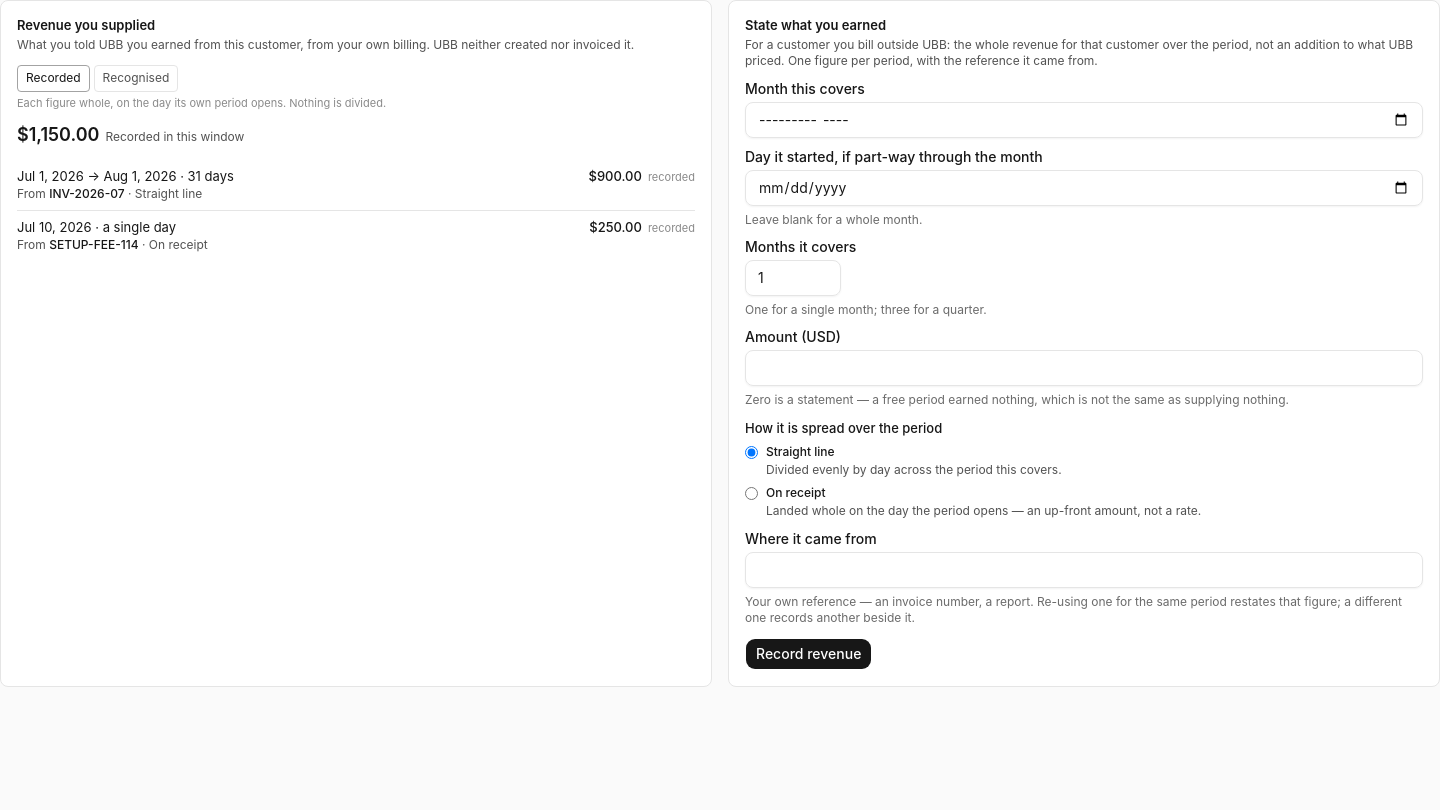
it: a tenant that supplies revenue › says a figure was spread rather than showing a smaller number
The image size is (1440, 810).
Expected: the text "INV-2026-07" is shown, top-left (49, 186), bottom-right (124, 201)
Click the button "Recognised" at (136, 79), box top-left (94, 65), bottom-right (178, 92)
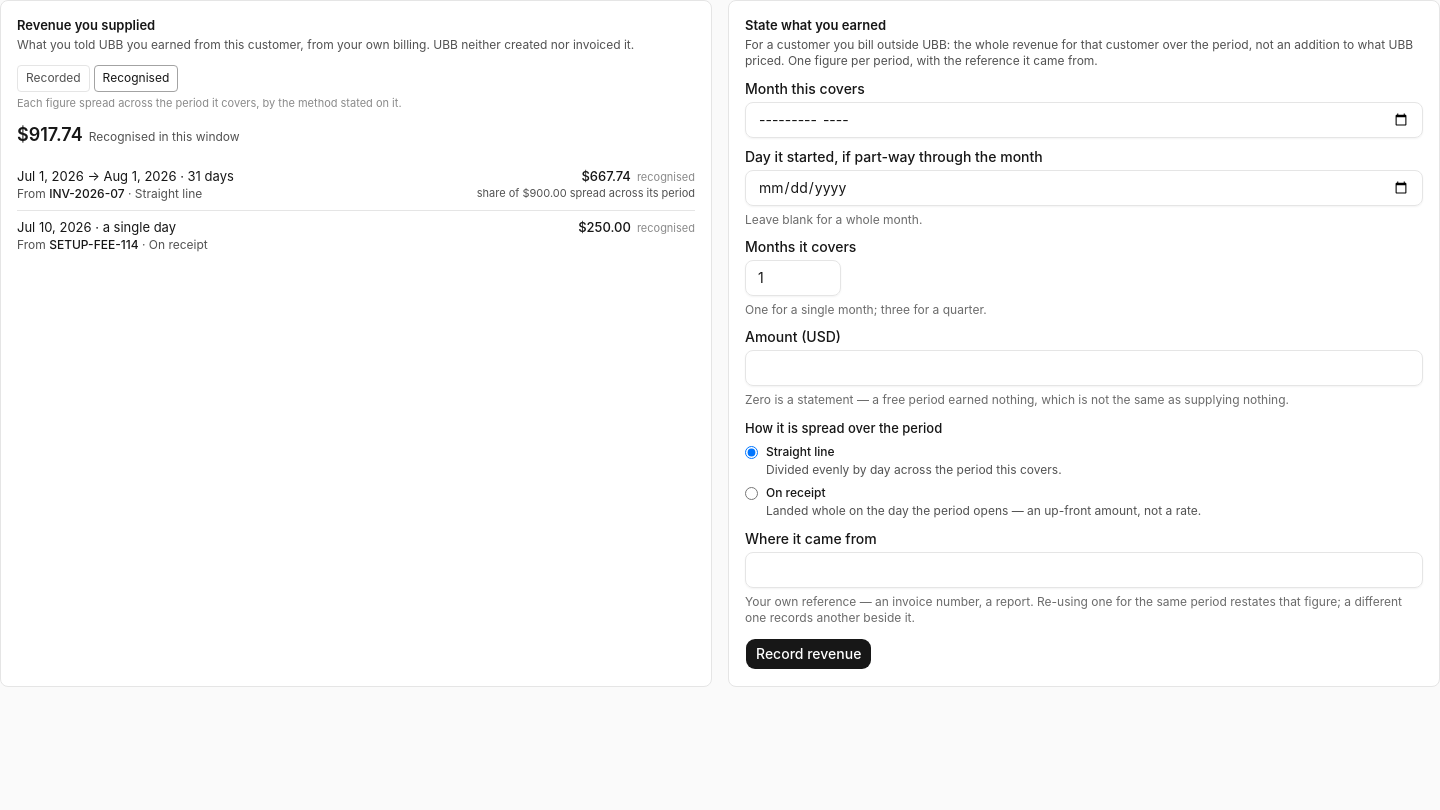
Expected: the list item "INV-2026-07" shows "$900.00", top-left (522, 186), bottom-right (567, 200)
Expected: the list item "INV-2026-07" shows "spread across its period", top-left (567, 186), bottom-right (695, 200)
Expected: the list item "INV-2026-07" shows "$667.74", top-left (581, 168), bottom-right (631, 184)
